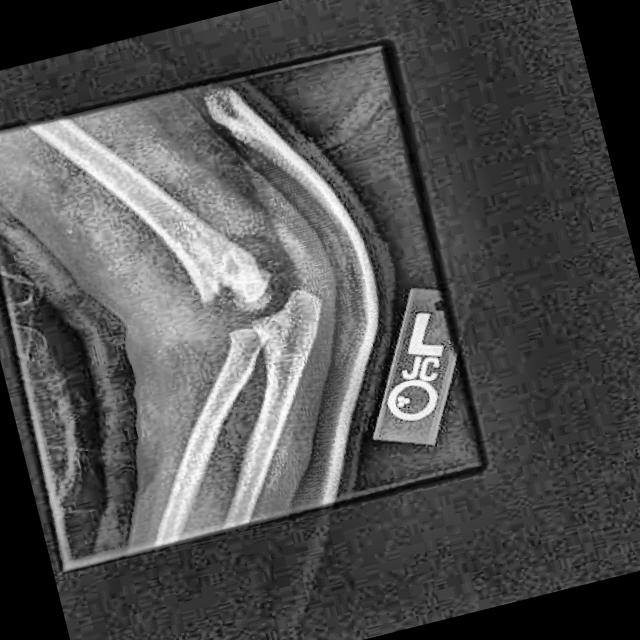elbow positive: (170, 233, 337, 383)
